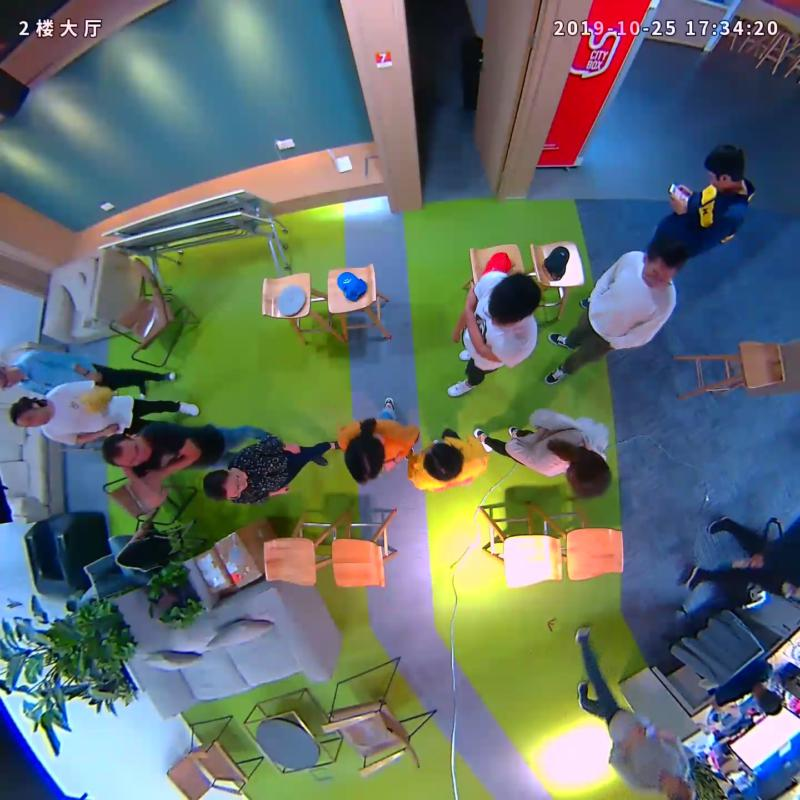head: (488, 271, 541, 326), (344, 432, 386, 486), (643, 238, 685, 290), (566, 453, 611, 498), (102, 433, 150, 469), (704, 145, 744, 187), (423, 442, 464, 481), (203, 468, 246, 501), (9, 396, 50, 428), (662, 774, 691, 800), (1, 366, 24, 388)
